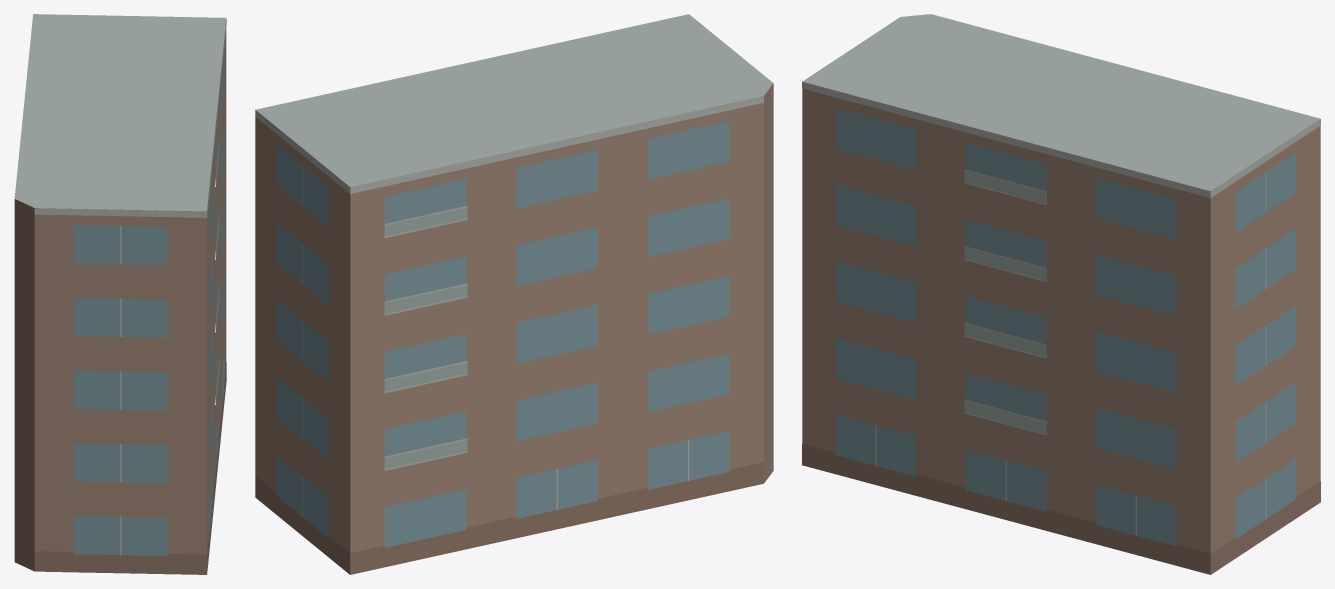
File: survey-upis-32997719.glb
3 views of the same model, side by side, from view 1: azimuth 30°, elevation 25°; view 2: azimuth 150°, elevation 25°; view 3: azimuth 270°, elevation 25° (orthographic). The views are drawn at different scales.
Visible parts, largest first — view 1: survey-upis-32997719.tmp; view 2: survey-upis-32997719.tmp; view 3: survey-upis-32997719.tmp.
Part boxes in pixels (<box>): survey-upis-32997719.tmp: <box>14,14,226,574</box>; survey-upis-32997719.tmp: <box>255,14,773,574</box>; survey-upis-32997719.tmp: <box>802,14,1320,574</box>.
Bounding box in the file's own units: 13.55 × 13.66 × 16.75.
